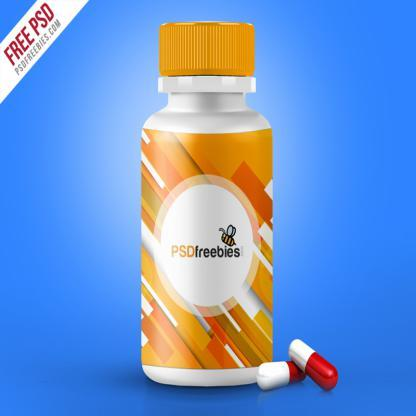jar: (141, 22, 272, 386)
